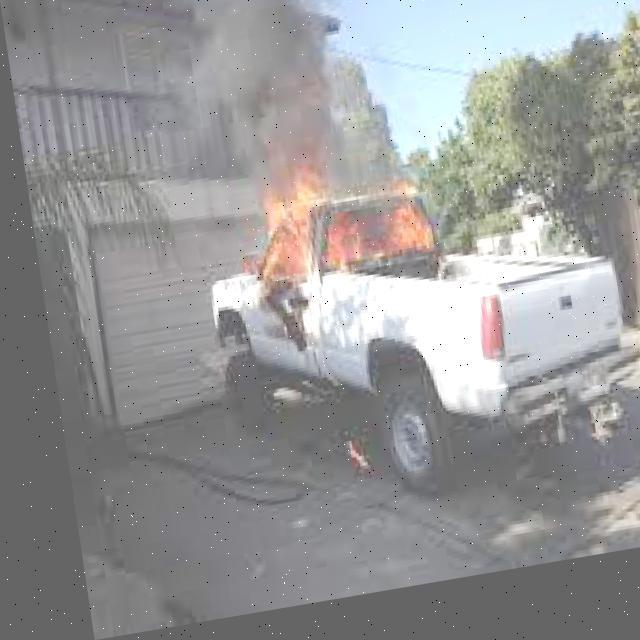Fire: (219, 148, 441, 324)
